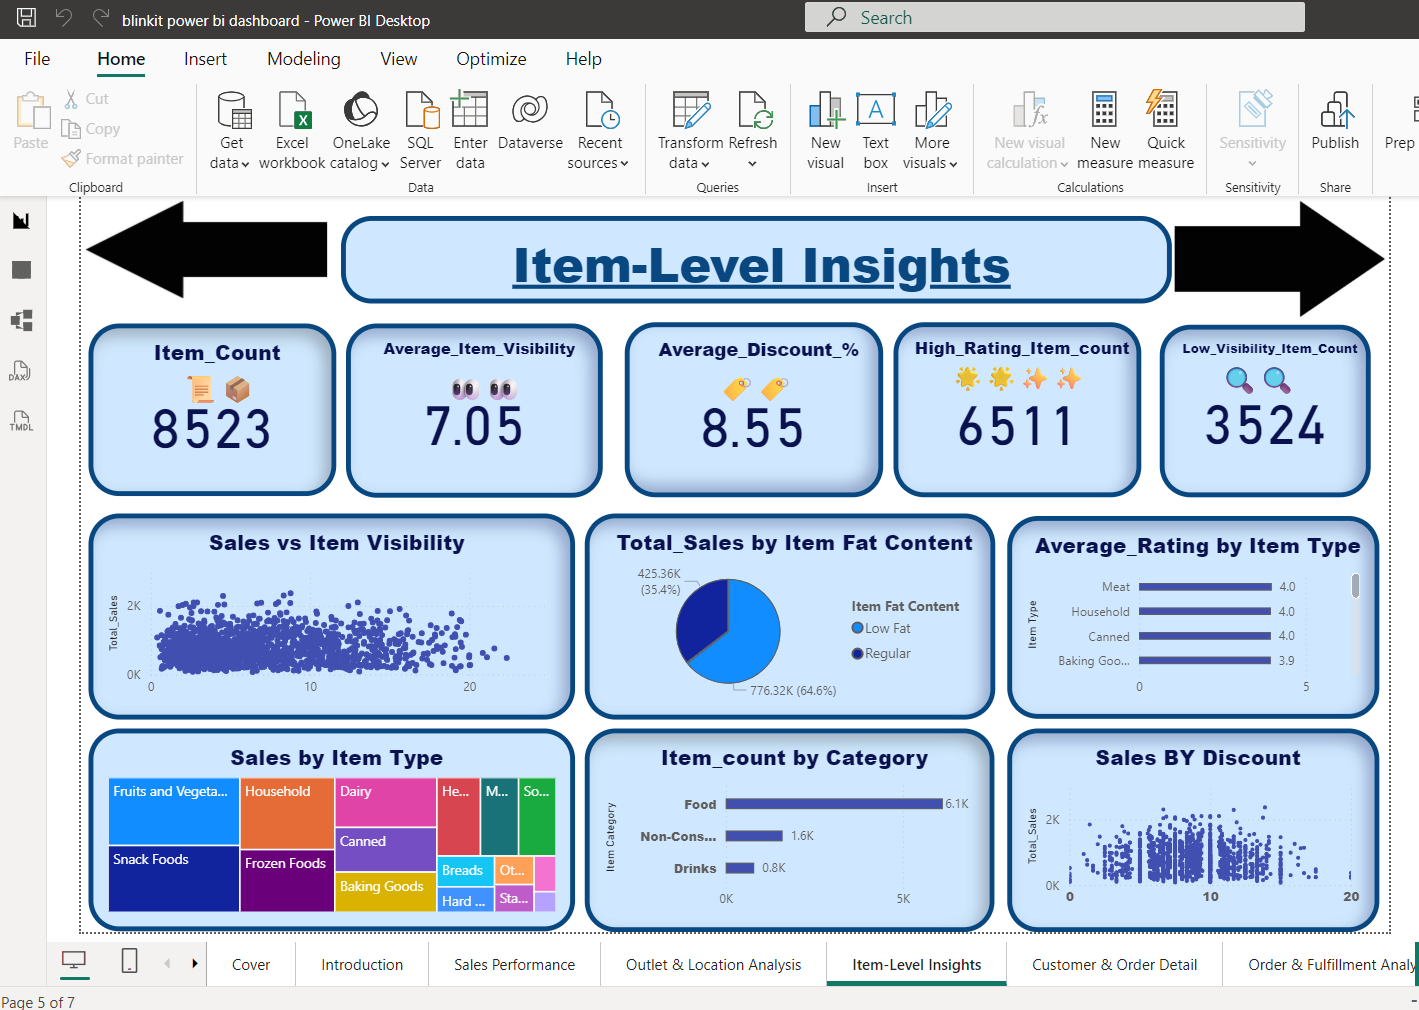

The dashboard page shown, as its layout file describes it:
{"tool":"powerbi","page":{"name":"Item-Level Insights","canvas":[1280,720],"ordinal":4},"visuals":[{"type":"textbox","title":"Item-Level Insights","box":[254.3,19.6,813.2,85.6],"z":0},{"type":"cardVisual","title":"Item_Count","fields":{"Data":["blinkit_data_master.Item_count"]},"box":[7.5,125,242.5,168.8],"z":1000},{"type":"cardVisual","title":"Average_Item_Visibility","fields":{"Data":["blinkit_data_master.Average_item_visibility"]},"box":[258.8,125,251.2,170],"z":2000},{"type":"cardVisual","title":"Average_Discount_%","fields":{"Data":["blinkit_data_master.average_discount_%"]},"box":[532.5,123.8,252.5,171.2],"z":3000},{"type":"cardVisual","title":"High_Rating_Item_count","fields":{"Data":["blinkit_data_master.High_Rating_Item_count"]},"box":[795,123.8,242.5,171.2],"z":4000},{"type":"cardVisual","title":"Low_Visibility_Item_Count","fields":{"Data":["blinkit_data_master.Low_visibility_Item_count"]},"box":[1055,126.2,206.2,168.8],"z":5000},{"type":"scatterChart","title":"Sales vs Item Visibility","fields":{"X":["Avg(blinkit_data_master.Item Visibility (%))"],"Category":["blinkit_data_master.Item Identifier"],"Y":["blinkit_data_master.Total_Sales"]},"box":[7.5,310,476.2,201.2],"z":6000},{"type":"pieChart","fields":{"Y":["blinkit_data_master.Total_Sales"],"Category":["blinkit_data_master.Item Fat Content"]},"box":[492.5,310,401.2,201.2],"z":7000},{"type":"treemap","title":"Sales by Item Type","fields":{"Values":["blinkit_data_master.Total_Sales"],"Group":["blinkit_data_master.Item Type"]},"box":[7.5,521.2,476.2,198.8],"z":8000},{"type":"clusteredBarChart","fields":{"Y":["blinkit_data_master.Average_Rating"],"Category":["blinkit_data_master.Item Type"]},"box":[906.2,312.5,363.8,198.8],"z":9000},{"type":"clusteredBarChart","title":"Item_count by  Category","fields":{"Y":["blinkit_data_master.Item_count"],"Category":["blinkit_data_master.Item Category"]},"box":[493,521,401,199],"z":10000},{"type":"scatterChart","title":"Sales  BY Discount","fields":{"X":["Avg(blinkit_data_master.Discount %)"],"Y":["blinkit_data_master.Total_Sales"],"Category":["blinkit_data_master.Item Identifier"]},"box":[906,521,364,199],"z":11000},{"type":"textbox","box":[25,165,221.2,45],"z":12000},{"type":"textbox","box":[288.6,165.1,212.8,94.2],"z":13000},{"type":"textbox","box":[551.5,165.1,217.7,148],"z":14000},{"type":"textbox","box":[816.9,156.5,200.5,138.2],"z":15000},{"type":"textbox","box":[1065.1,156.5,173.6,231.1],"z":16000},{"type":"image","box":[0,0,245.8,105.2],"z":16001},{"type":"image","box":[1065.1,0,215.2,123.5],"z":16002}]}

Visuals, with their boxes on the page's 1280x720 design canvas (x1, y1, x2, y2). These are canvas units, not pixel positions in the 1419x1010 screenshot, which may show the page scaled, cropped or inside an application window:
"Item-Level Insights" textbox: {"x1": 254, "y1": 20, "x2": 1068, "y2": 105}
"Item_Count" cardVisual: {"x1": 8, "y1": 125, "x2": 250, "y2": 294}
"Average_Item_Visibility" cardVisual: {"x1": 259, "y1": 125, "x2": 510, "y2": 295}
"Average_Discount_%" cardVisual: {"x1": 532, "y1": 124, "x2": 785, "y2": 295}
"High_Rating_Item_count" cardVisual: {"x1": 795, "y1": 124, "x2": 1038, "y2": 295}
"Low_Visibility_Item_Count" cardVisual: {"x1": 1055, "y1": 126, "x2": 1261, "y2": 295}
"Sales vs Item Visibility" scatterChart: {"x1": 8, "y1": 310, "x2": 484, "y2": 511}
pieChart - blinkit_data_master.Total_Sales x blinkit_data_master.Item Fat Content: {"x1": 492, "y1": 310, "x2": 894, "y2": 511}
"Sales by Item Type" treemap: {"x1": 8, "y1": 521, "x2": 484, "y2": 720}
clusteredBarChart - blinkit_data_master.Average_Rating x blinkit_data_master.Item Type: {"x1": 906, "y1": 312, "x2": 1270, "y2": 511}
"Item_count by  Category" clusteredBarChart: {"x1": 493, "y1": 521, "x2": 894, "y2": 720}
"Sales  BY Discount" scatterChart: {"x1": 906, "y1": 521, "x2": 1270, "y2": 720}
textbox: {"x1": 25, "y1": 165, "x2": 246, "y2": 210}
textbox: {"x1": 289, "y1": 165, "x2": 501, "y2": 259}
textbox: {"x1": 552, "y1": 165, "x2": 769, "y2": 313}
textbox: {"x1": 817, "y1": 156, "x2": 1017, "y2": 295}
textbox: {"x1": 1065, "y1": 156, "x2": 1239, "y2": 388}
image: {"x1": 0, "y1": 0, "x2": 246, "y2": 105}
image: {"x1": 1065, "y1": 0, "x2": 1280, "y2": 124}
